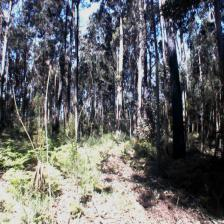trunktrack_idkeyframe: (168, 56, 186, 156), (156, 57, 160, 147)
